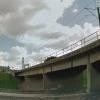Bridge: (5, 35, 99, 83)
